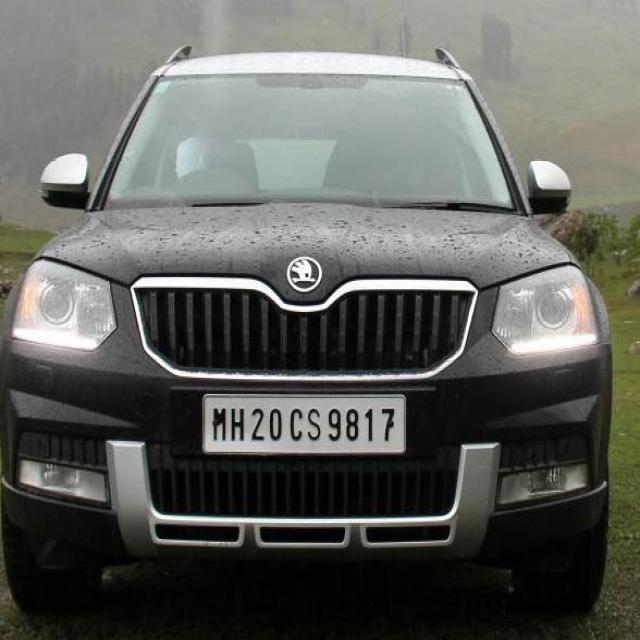number_plate: (201, 389, 406, 449)
